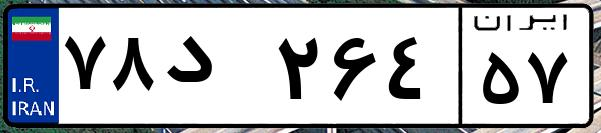2: (270, 28, 330, 110)
4: (385, 28, 445, 110)
5: (475, 38, 525, 113)
6: (330, 28, 385, 110)
7: (57, 26, 110, 100), (525, 38, 570, 115)
8: (110, 28, 158, 98)
د: (158, 20, 270, 120)
